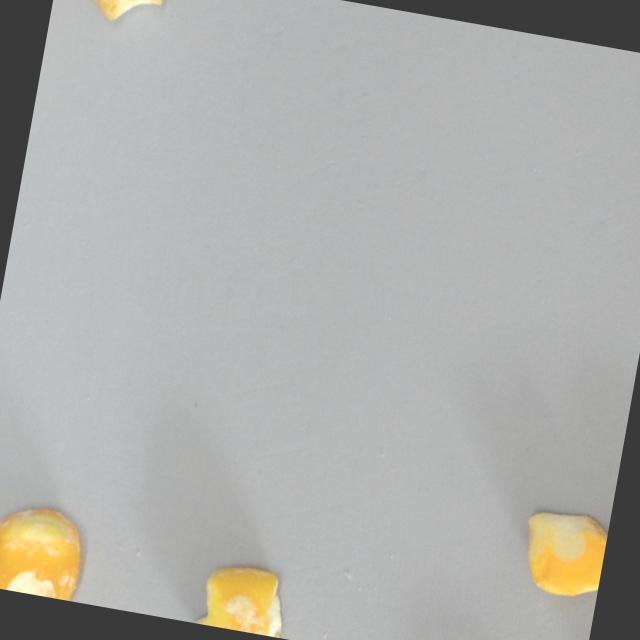dañado: (0, 492, 92, 602), (60, 0, 164, 33)
no_desgerminado: (512, 502, 610, 606)
pelicula: (182, 547, 298, 639)
